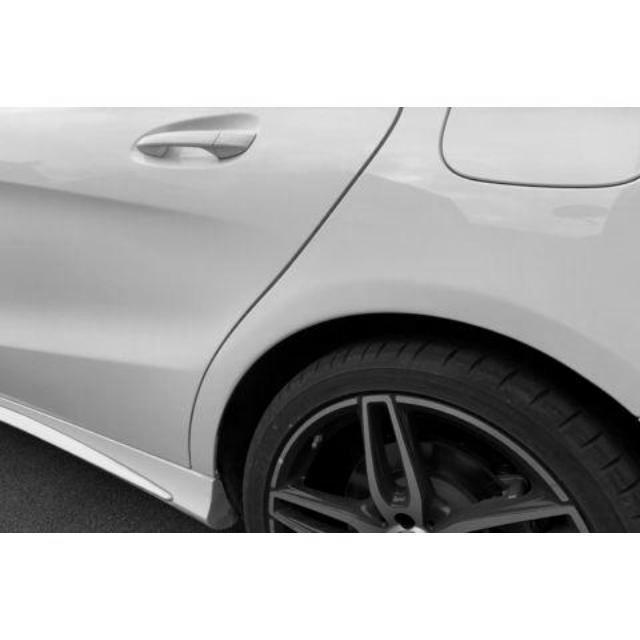quaterpanel-dent: (377, 107, 638, 455)
